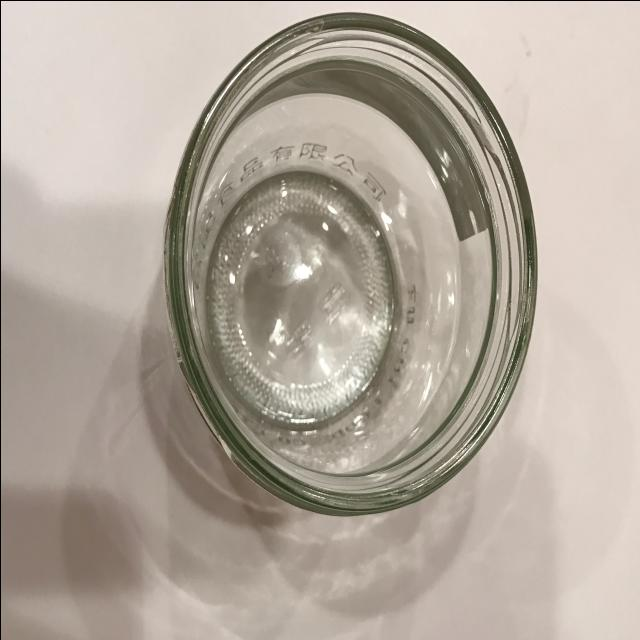glass: (156, 14, 538, 513)
